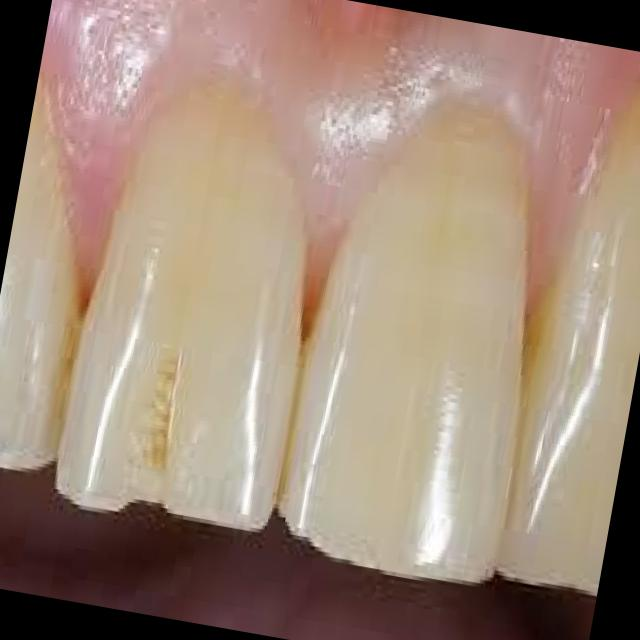Tooth: (280, 117, 531, 584), (54, 100, 305, 528), (499, 101, 640, 603), (0, 71, 75, 476)
